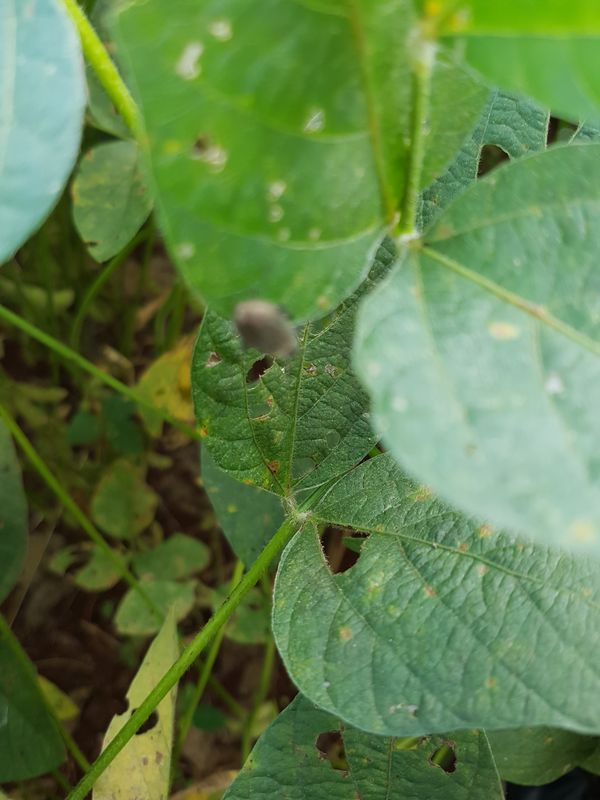Lagria_villosa: (218, 289, 311, 372)
